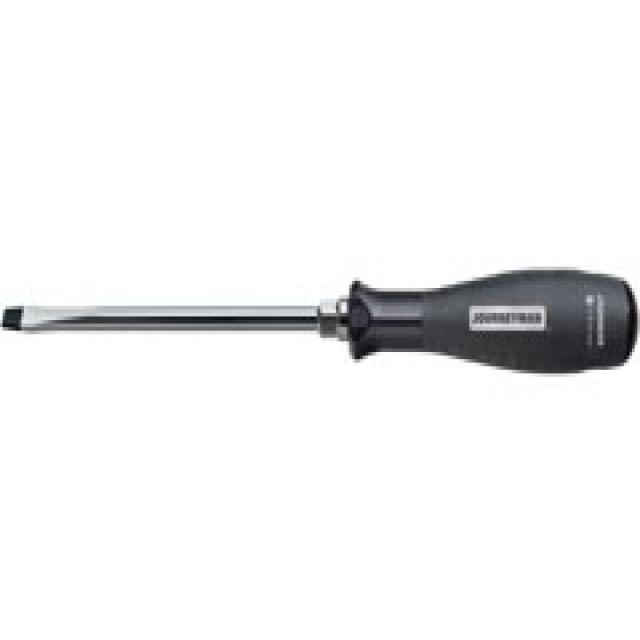screw_driver: (0, 270, 636, 372)
